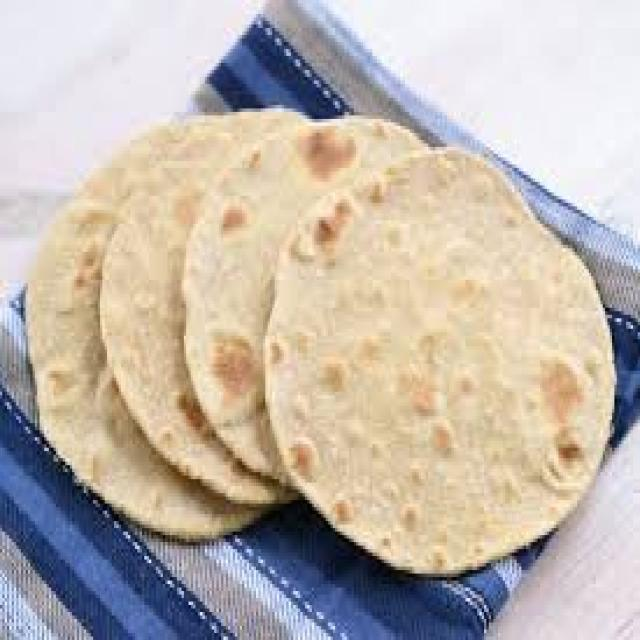chapathi: (26, 150, 613, 552)
